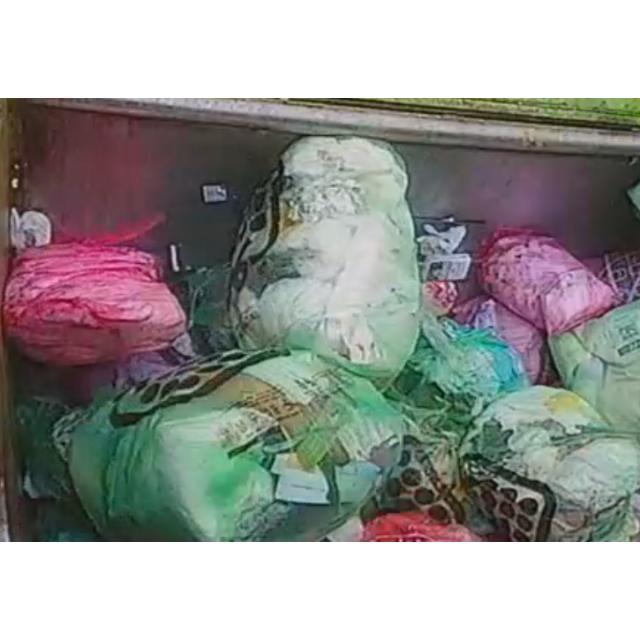general_trashbag: (52, 348, 406, 540), (231, 137, 421, 384), (382, 317, 529, 521), (461, 386, 640, 540), (549, 301, 640, 427)
other_trashbag: (4, 242, 185, 366), (482, 228, 614, 334)
